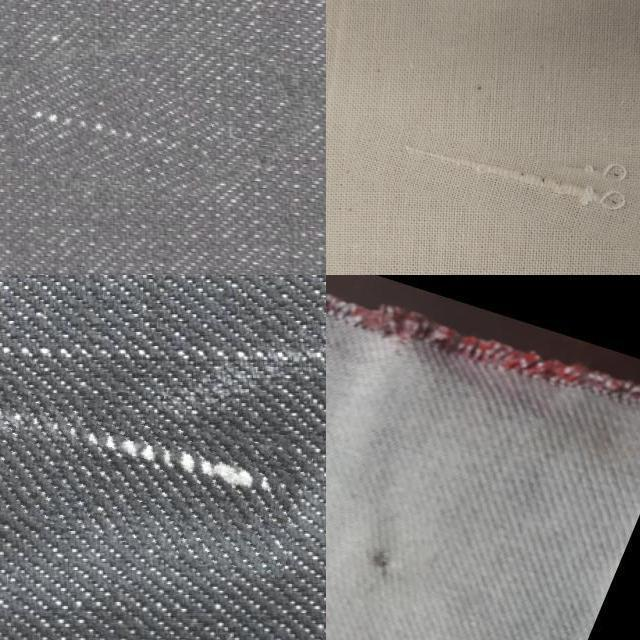Thread_other: (0, 394, 307, 560), (345, 131, 640, 233), (0, 296, 326, 379), (5, 70, 218, 186)
seam: (326, 500, 431, 606)
